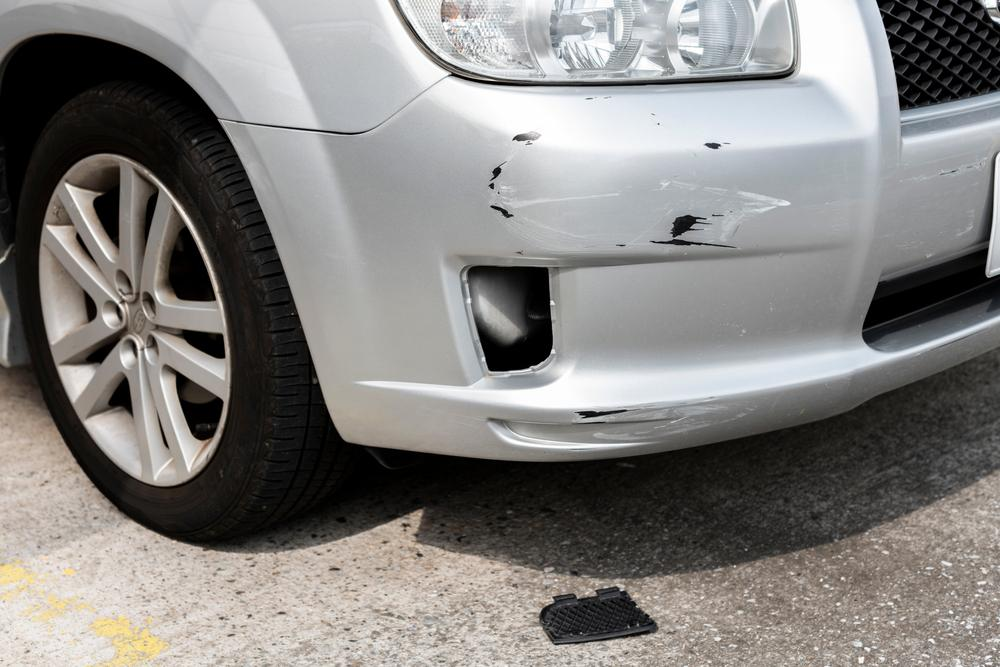scratch: (486, 129, 798, 261), (575, 391, 759, 445), (903, 156, 989, 259)
